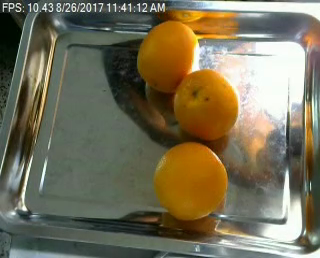Orange: (155, 140, 228, 220), (171, 69, 240, 141), (136, 20, 200, 92)
